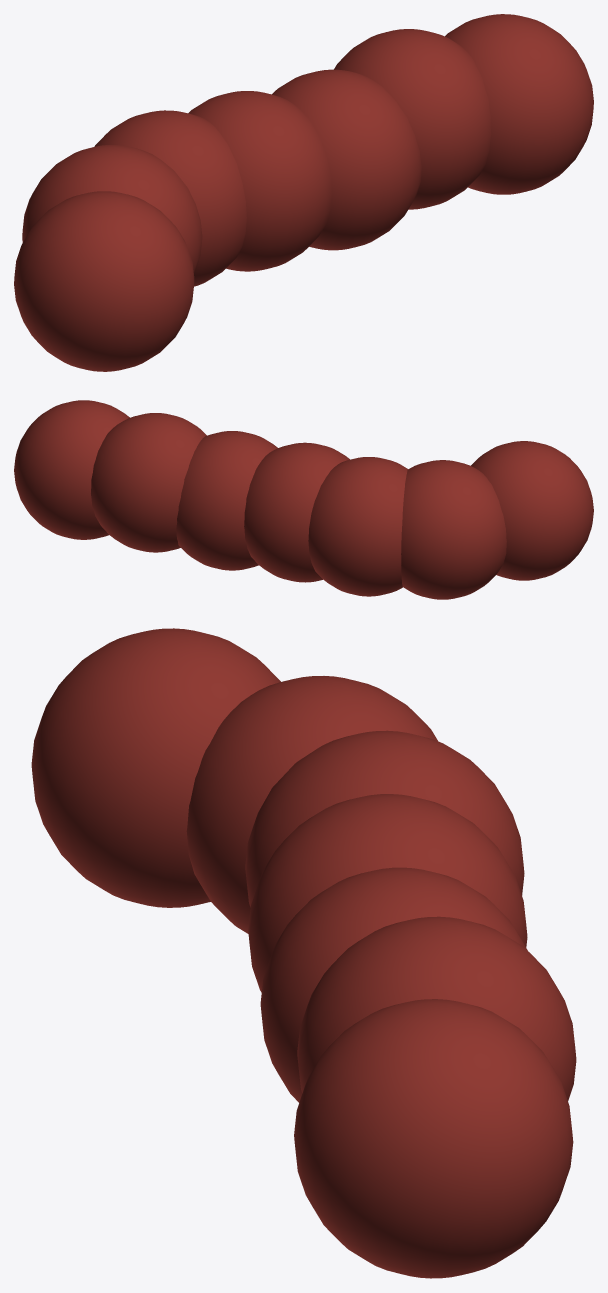
The model's file is stretococci.glb.
The picture shows the model from 3 angles, top to bottom: view 1: azimuth 30°, elevation 25°; view 2: azimuth 150°, elevation 25°; view 3: azimuth 270°, elevation 25°; orthographic projection. The views are drawn at different scales.
Visible parts, largest first — view 1: Sphere.005, Sphere.007, Sphere.001, Sphere.002, Sphere.006, Sphere.003, Sphere.004; view 2: Sphere.004, Sphere.003, Sphere.006, Sphere.005, Sphere.007, Sphere.001, Sphere.002; view 3: Sphere.007, Sphere.005, Sphere.006, Sphere.004, Sphere.002, Sphere.003, Sphere.001.
Boxes of the visible parts, bbox=[...] form: Sphere.005: bbox=[14, 191, 194, 371]; Sphere.007: bbox=[445, 14, 593, 194]; Sphere.001: bbox=[272, 69, 421, 250]; Sphere.002: bbox=[188, 91, 331, 271]; Sphere.006: bbox=[334, 29, 491, 209]; Sphere.003: bbox=[94, 110, 246, 286]; Sphere.004: bbox=[22, 145, 202, 272]; Sphere.004: bbox=[401, 460, 506, 599]; Sphere.003: bbox=[308, 457, 407, 596]; Sphere.006: bbox=[91, 413, 206, 552]; Sphere.005: bbox=[471, 441, 593, 580]; Sphere.007: bbox=[14, 400, 129, 539]; Sphere.001: bbox=[176, 431, 277, 570]; Sphere.002: bbox=[244, 442, 349, 582]; Sphere.007: bbox=[294, 999, 573, 1278]; Sphere.005: bbox=[31, 628, 280, 907]; Sphere.006: bbox=[297, 916, 576, 1100]; Sphere.004: bbox=[186, 676, 437, 933]; Sphere.002: bbox=[248, 794, 527, 992]; Sphere.003: bbox=[245, 730, 524, 907]; Sphere.001: bbox=[260, 867, 527, 1102].
Bounding box in the file's own units: 4.98 × 1.3 × 2.37.
